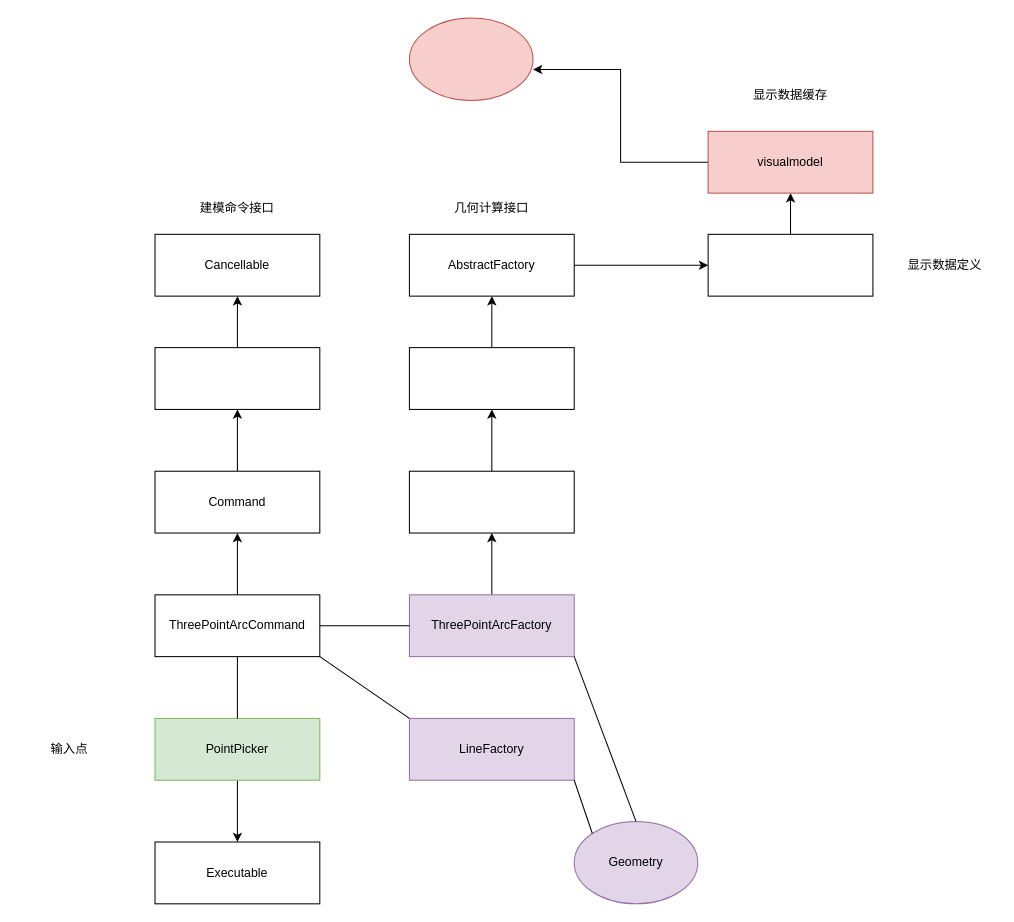
This 1014x922 diagram has some shape labels left out. The centre of each missing label's shape, as x and y in pixels:
"AbstractGeometryFactory" goes at point (491, 378).
"CancellableRegistor" goes at point (237, 378).
"GeometryFactory" goes at point (491, 501).
"Three.js" goes at point (470, 58).
"visual.Item" goes at point (790, 264).
